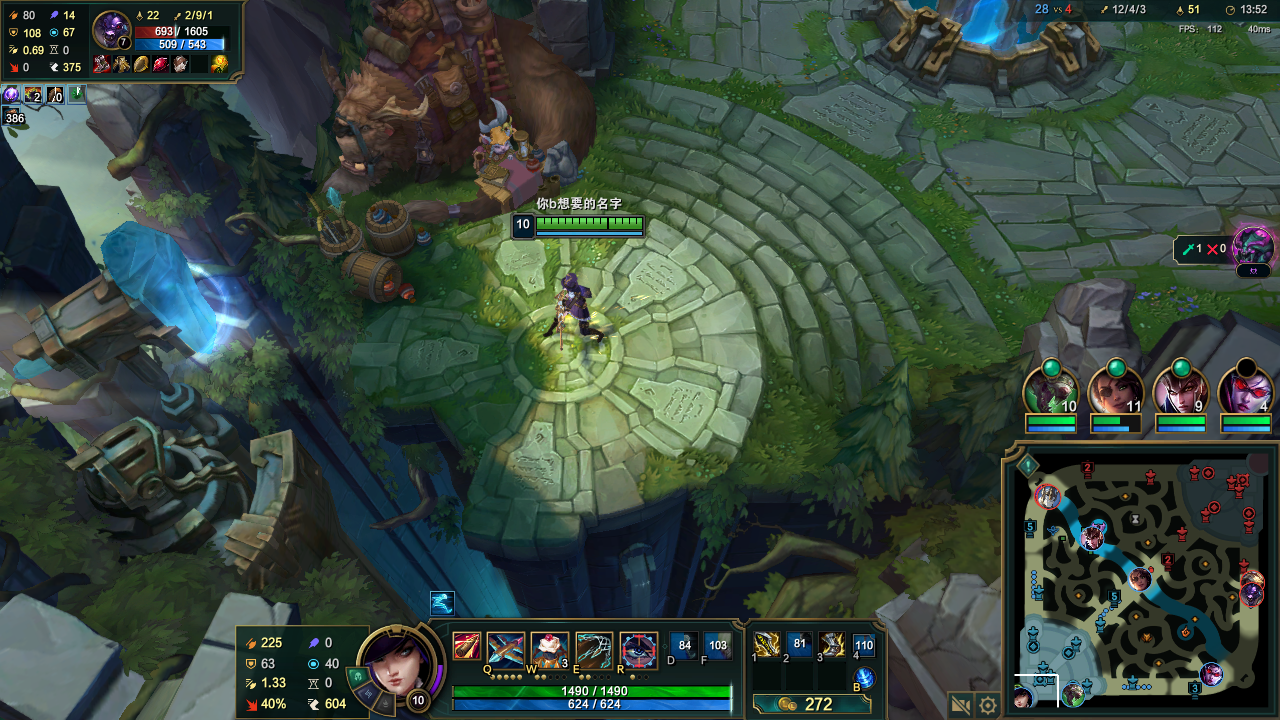Jidi: (385, 42, 538, 126)
WFSJ: (888, 4, 990, 76)
